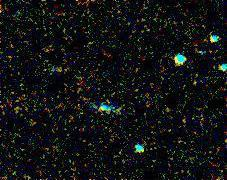star: (88, 95, 118, 125)
